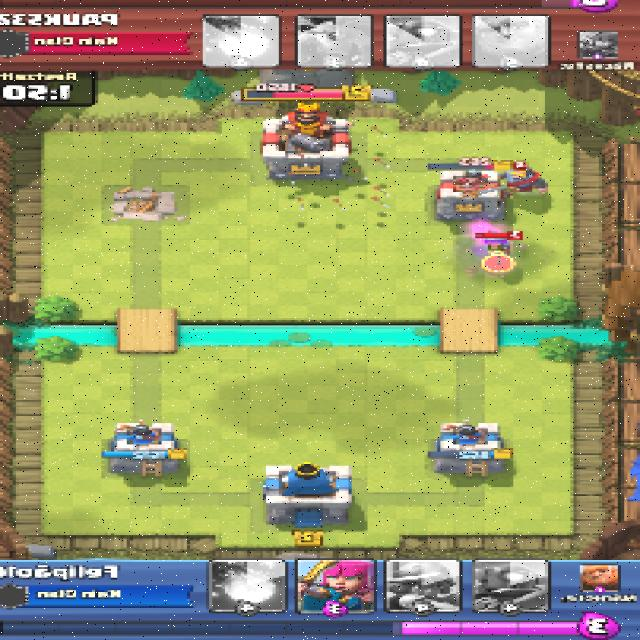Enemy-Arrow: (281, 120, 402, 209)
Enemy-Knight: (501, 165, 551, 197)
Enemy-Musketeer: (480, 232, 525, 259)
